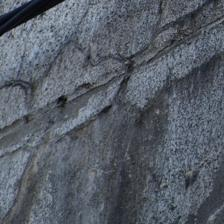Crack: (0, 150, 71, 224), (0, 76, 74, 131)
